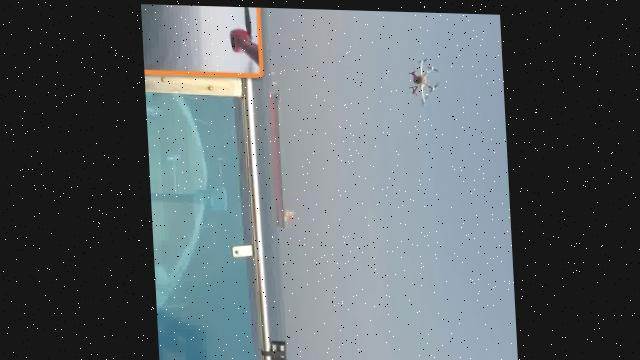drone: (362, 350, 430, 360)
